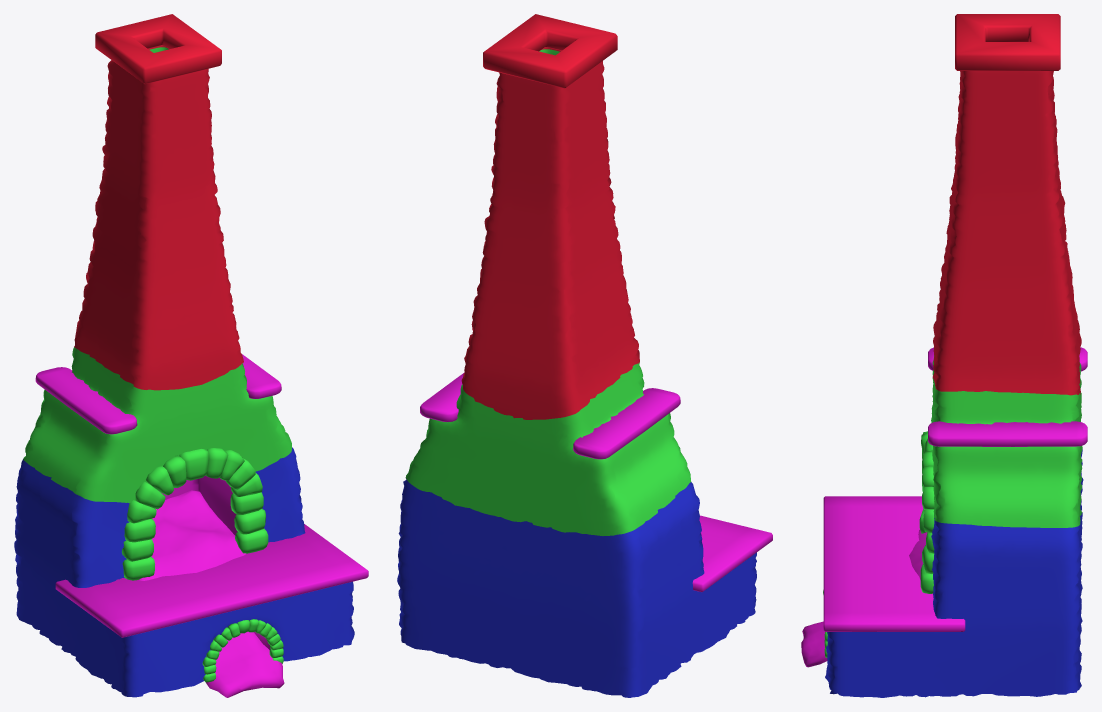
The model's file is SM_BS_Forge_2_.fbx.
3 renders of one model, left to right at view 1: azimuth 30°, elevation 25°; view 2: azimuth 150°, elevation 25°; view 3: azimuth 270°, elevation 25°, orthographic. The views are drawn at different scales.
Parts seen in each view (by area): view 1: Forge2; view 2: Forge2; view 3: Forge2.
Part boxes in pixels (x1,y1,x2,y2): Forge2: (14,14,368,697); Forge2: (397,14,772,697); Forge2: (801,14,1087,697).
Size of what is drawn, in the model's own units: 273 by 615 by 257.
